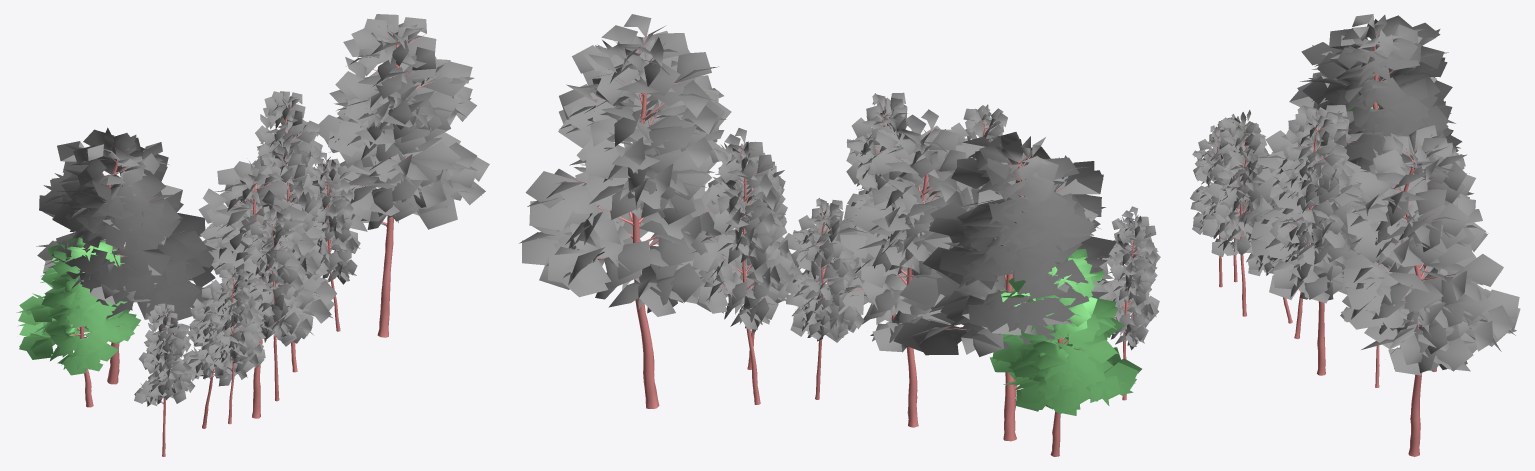
Rendered from Woods_Dawn_Trees_11.gltf.
The picture shows the model from 3 angles, left to right: view 1: azimuth 30°, elevation 25°; view 2: azimuth 150°, elevation 25°; view 3: azimuth 270°, elevation 25°; orthographic projection. The views are drawn at different scales.
Parts seen in each view (by area): view 1: Woods_Dawn_Trees_11; view 2: Woods_Dawn_Trees_11; view 3: Woods_Dawn_Trees_11.
Boxes of the visible parts, x1=… form: Woods_Dawn_Trees_11: x1=16, y1=14, x2=489, y2=456; Woods_Dawn_Trees_11: x1=519, y1=14, x2=1160, y2=456; Woods_Dawn_Trees_11: x1=1190, y1=14, x2=1520, y2=456.
Bounding box in the file's own units: 198 × 127 × 115.
